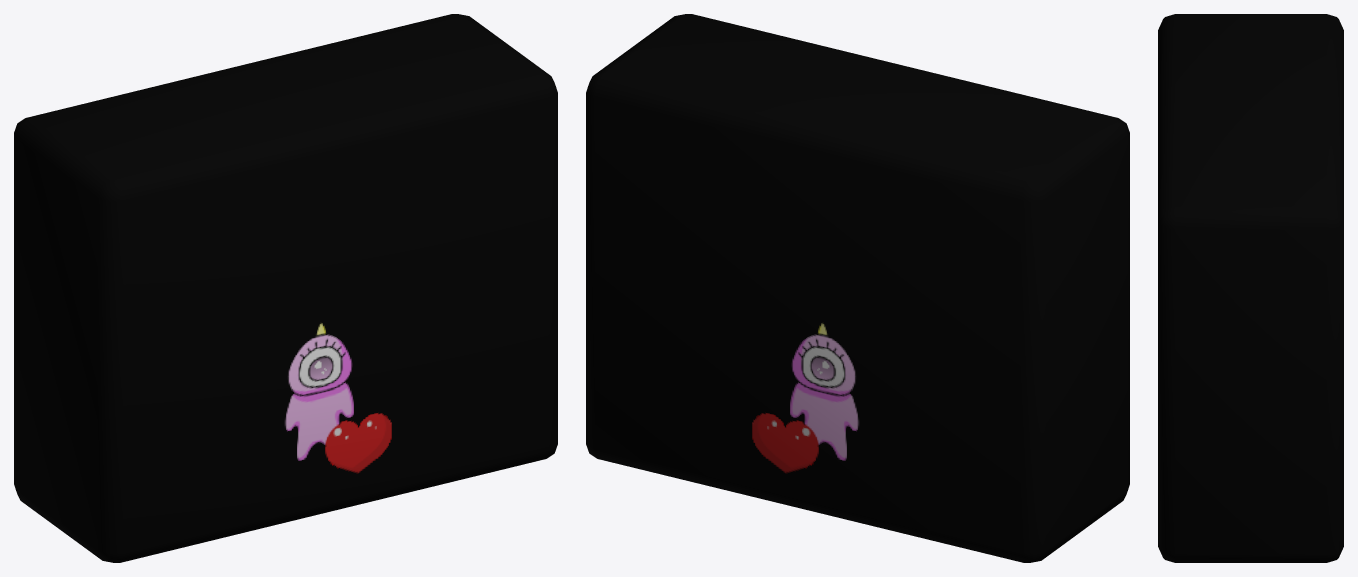
3 renders of one model, left to right at view 1: azimuth 30°, elevation 25°; view 2: azimuth 150°, elevation 25°; view 3: azimuth 270°, elevation 25°, orthographic. The views are drawn at different scales.
Visible parts, largest first — view 1: 19; view 2: 19; view 3: 19.
Boxes of the visible parts, x1,y1,x2,y2 form: 19: (14,14,557,562); 19: (586,14,1129,562); 19: (1158,14,1343,562).
Bounding box in the file's own units: 1 × 0.8029 × 0.38.
1 material, 1 textured.
